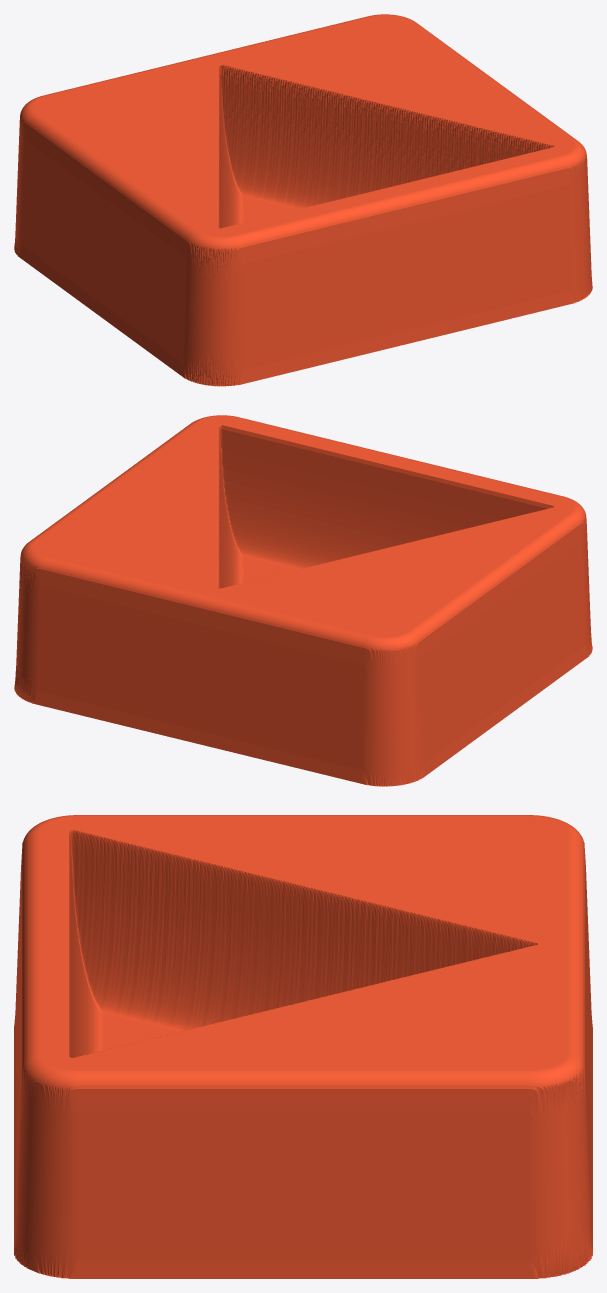
File: mold.glb
3 renders of one model, top to bottom at view 1: azimuth 30°, elevation 25°; view 2: azimuth 150°, elevation 25°; view 3: azimuth 270°, elevation 25°, orthographic. The views are drawn at different scales.
Parts seen in each view (by area): view 1: geometry_0; view 2: geometry_0; view 3: geometry_0.
Boxes of the visible parts, box(x1,y1,x2,y2) form: geometry_0: box(14, 14, 592, 386); geometry_0: box(14, 415, 592, 786); geometry_0: box(14, 815, 592, 1278).
Size of the model in its own units: 0.0924 by 0.031 by 0.0822.
